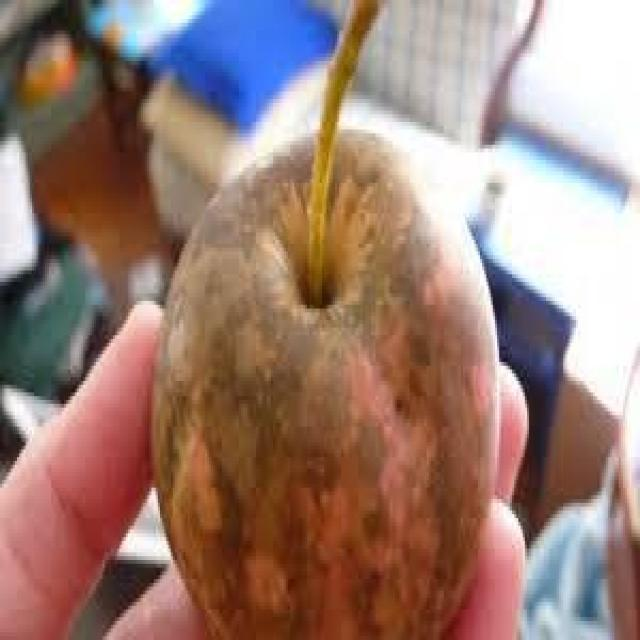Rotten: (146, 121, 501, 640)
